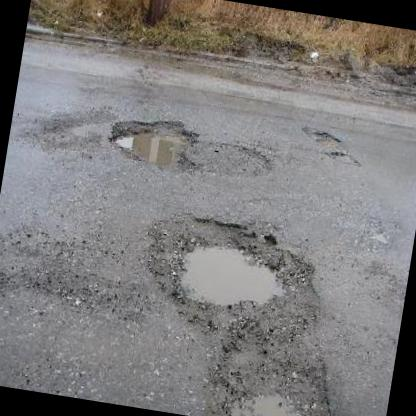pothole: (132, 202, 337, 353), (197, 339, 342, 416), (102, 107, 202, 176), (300, 124, 344, 148), (323, 146, 360, 168)
